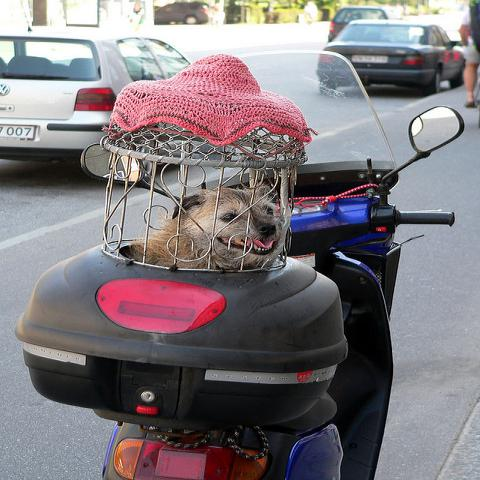car: (0, 26, 190, 162), (316, 19, 466, 98), (328, 7, 388, 41), (154, 0, 210, 26)
motorcycle: (19, 50, 471, 470)
